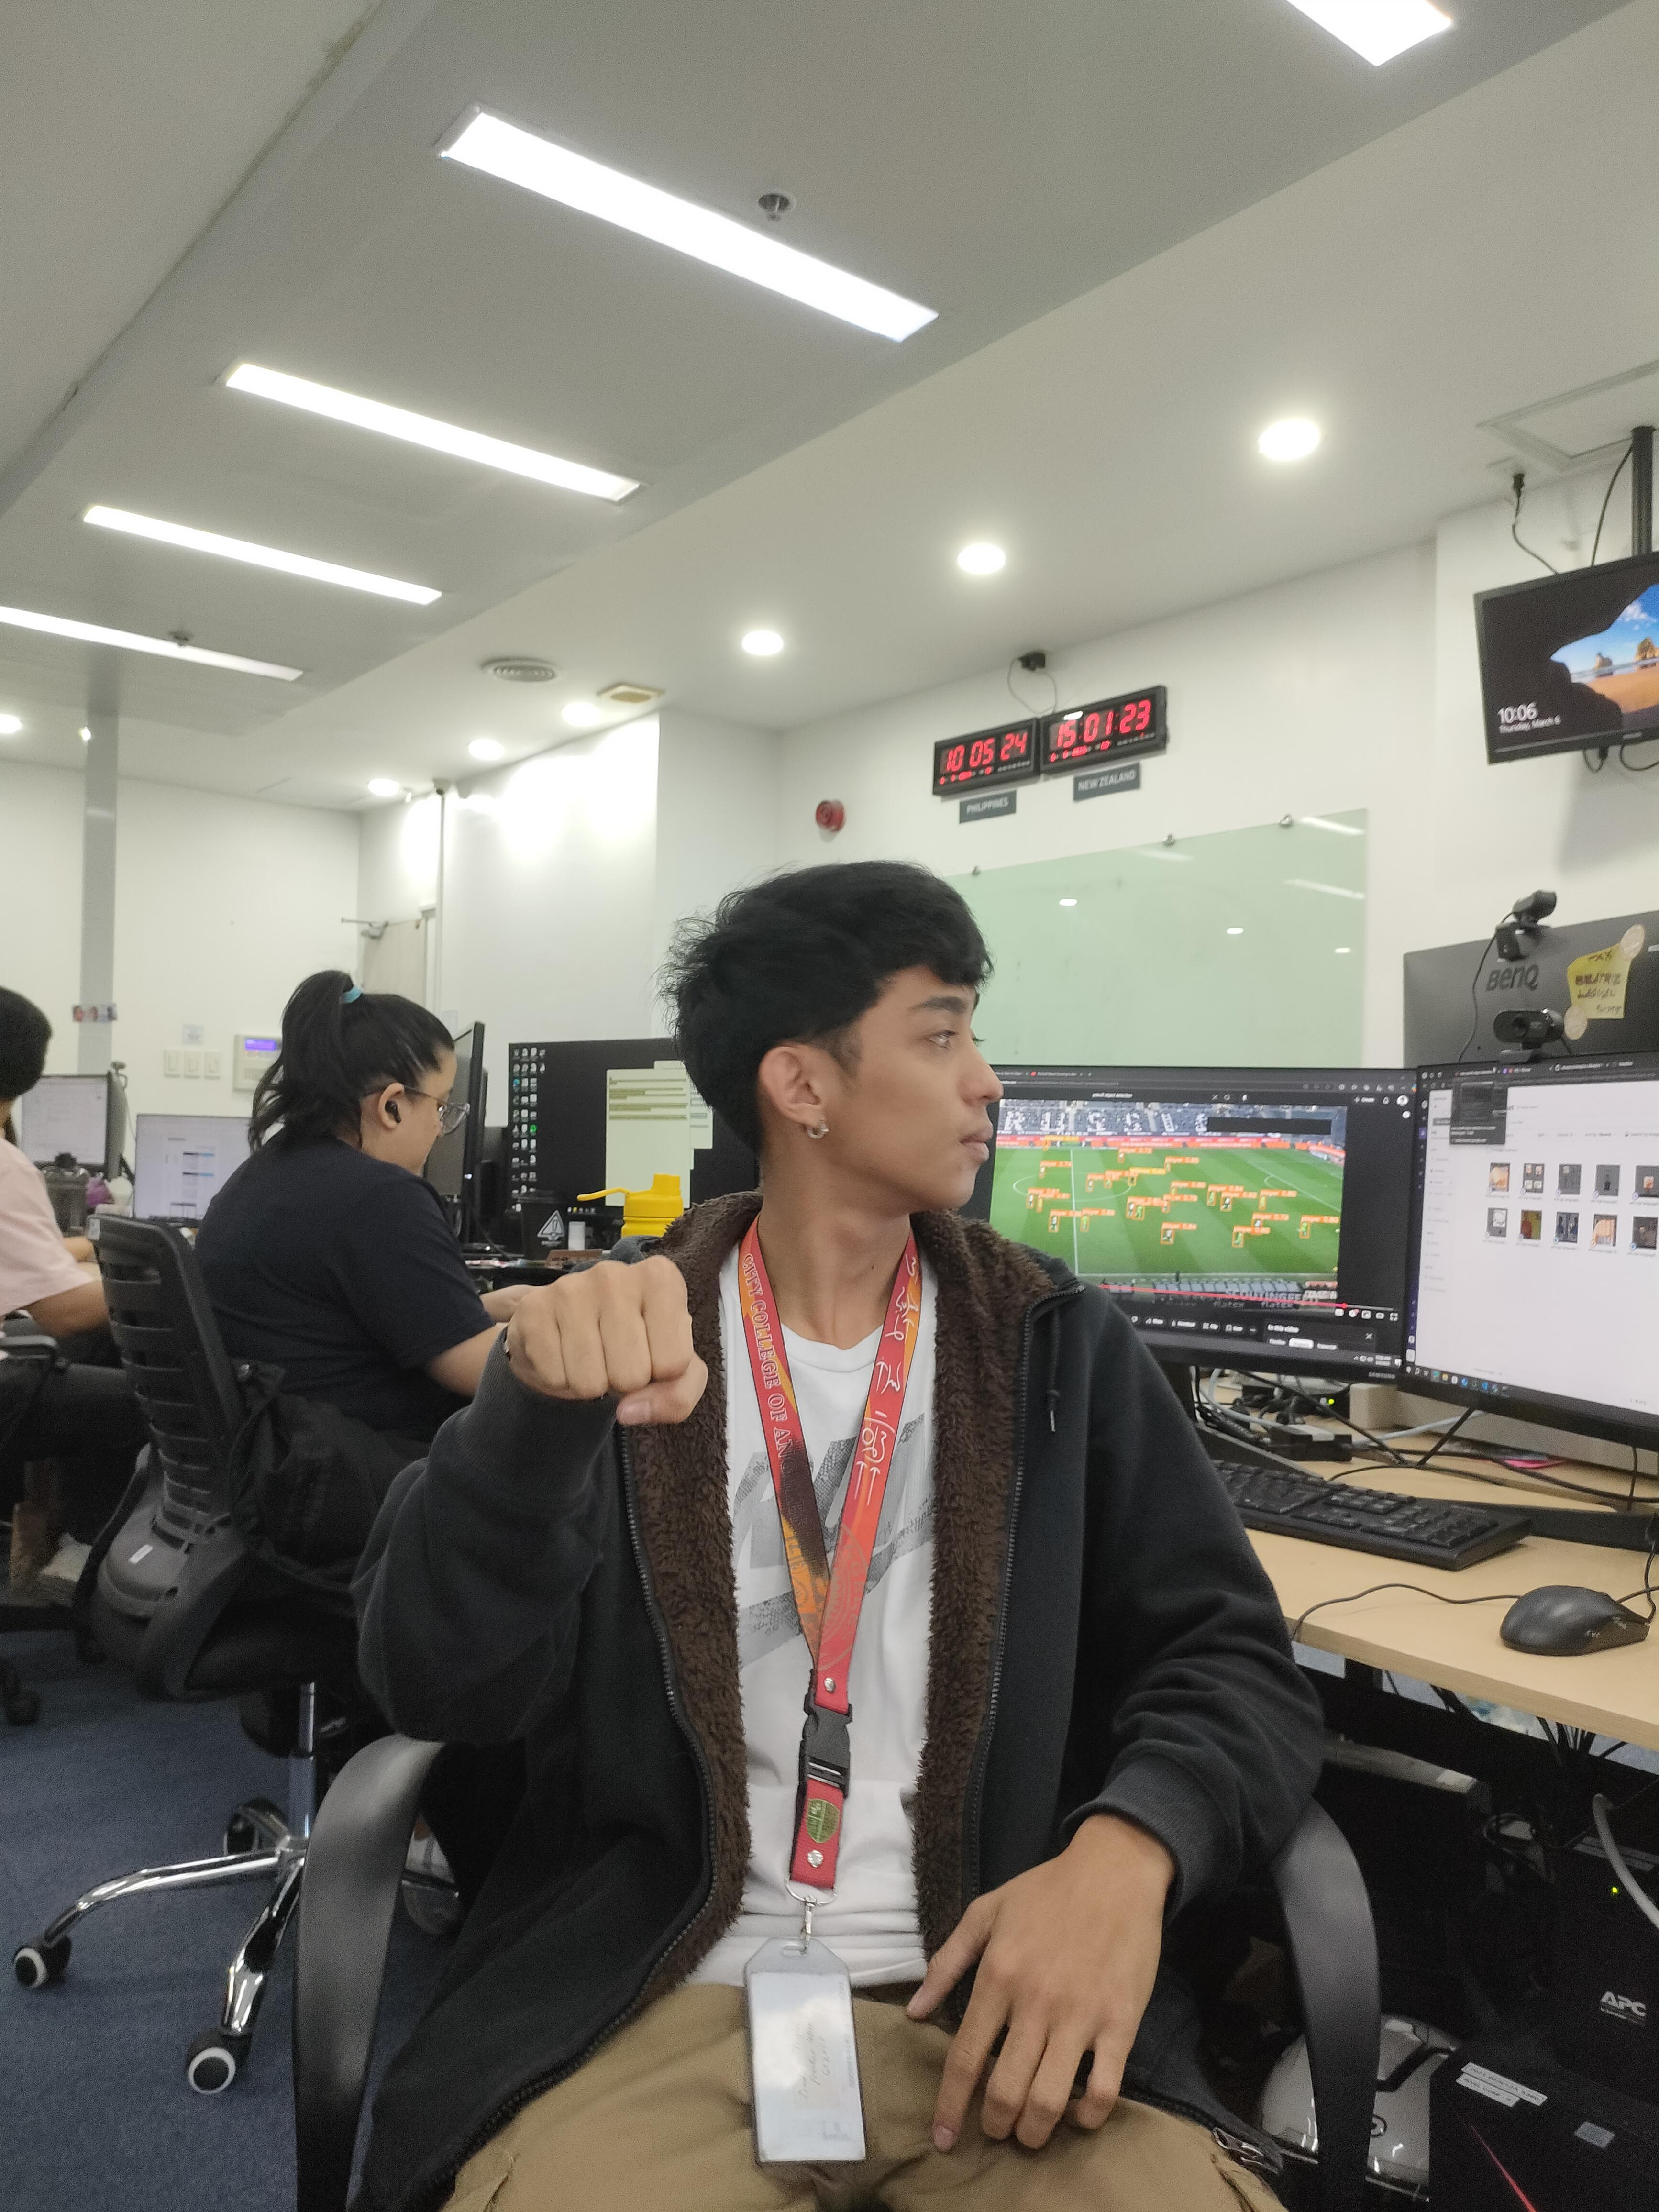Yes: (500, 1242, 741, 1428)
